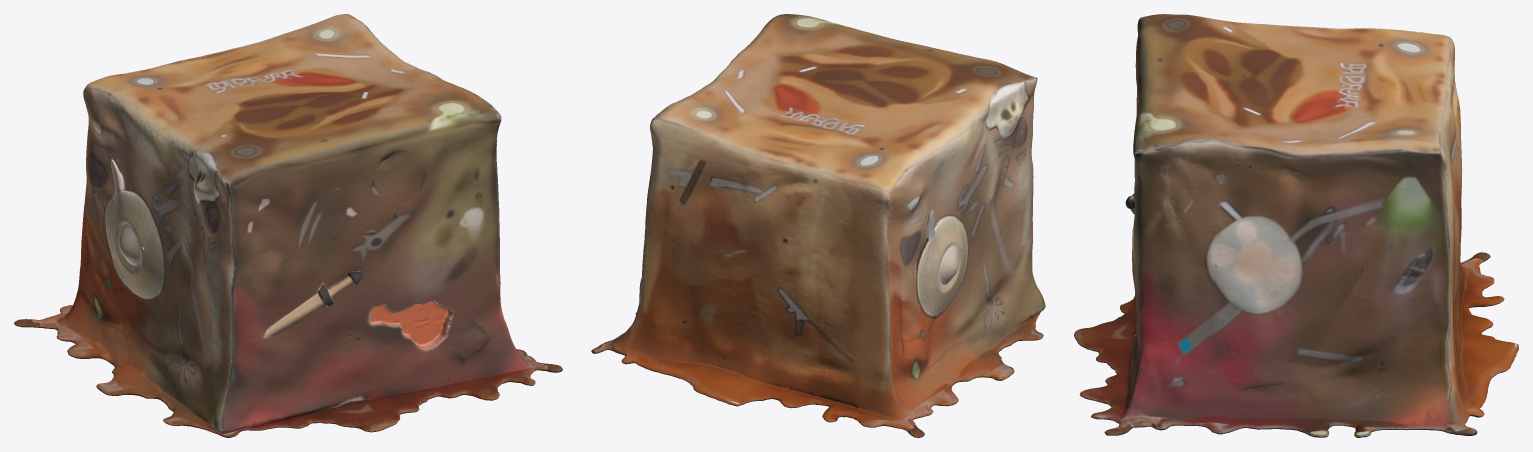
File: Meshy_AI_Slime_Cube_0709233140_texture.glb
3 views of the same model, side by side, from view 1: azimuth 30°, elevation 25°; view 2: azimuth 150°, elevation 25°; view 3: azimuth 270°, elevation 25° (orthographic). The views are drawn at different scales.
Bounding box in the file's own units: 1.89 × 1.29 × 1.9.
1 material, 1 textured.
